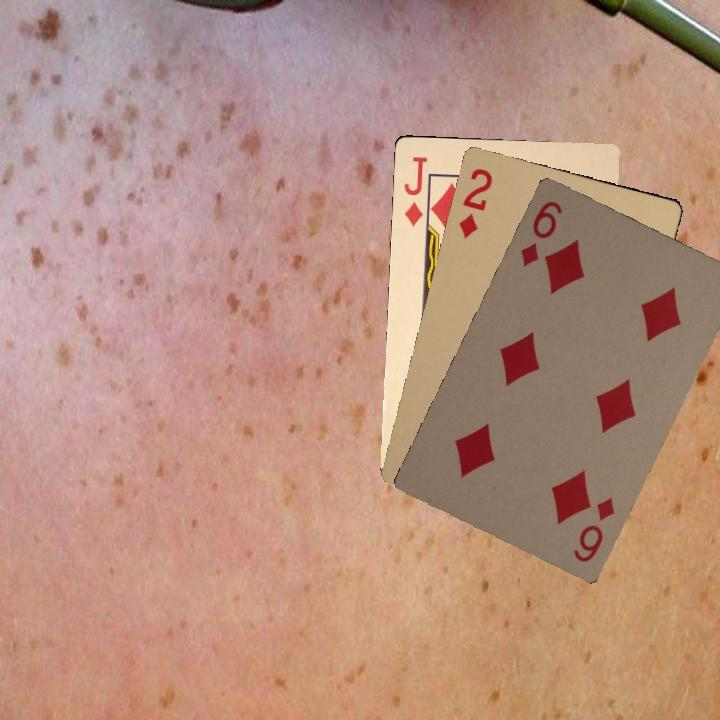2d: (455, 164, 495, 241)
6d: (516, 196, 565, 269), (569, 492, 617, 565)
Jd: (400, 153, 430, 228)
